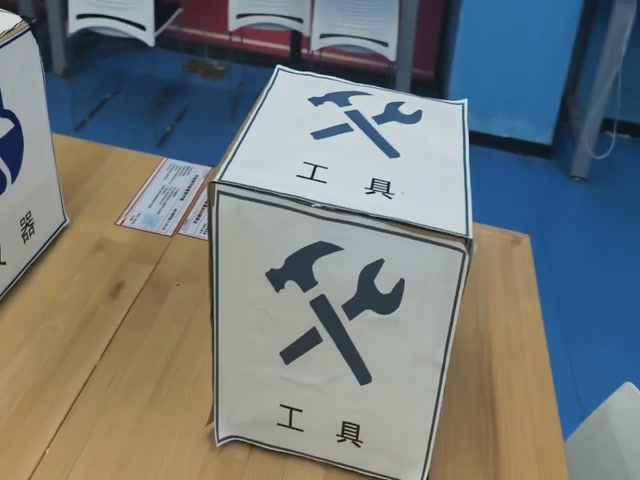Cube_tool: (210, 67, 472, 249)
